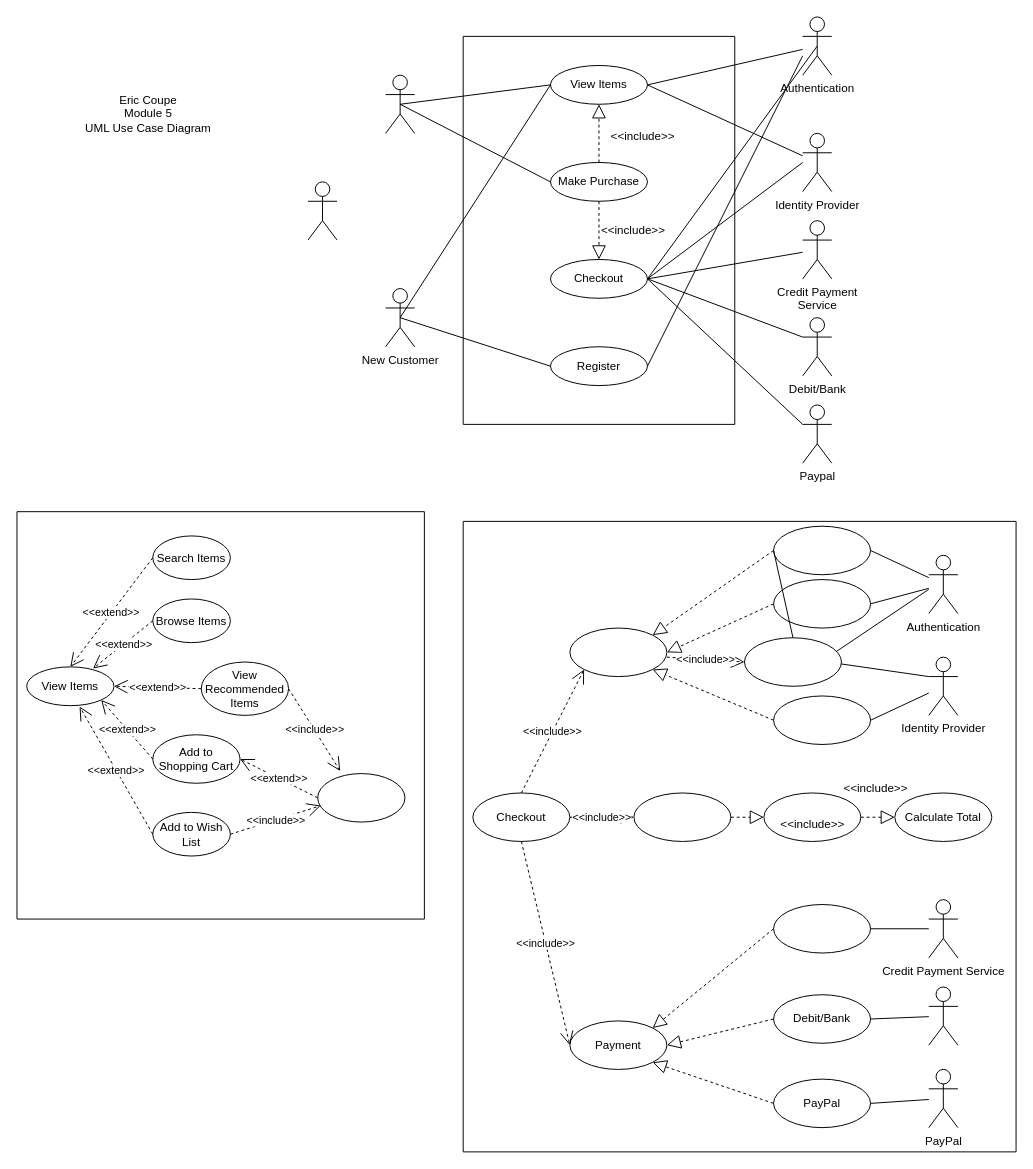
Some shapes in this 1033 by 1169 pixel diagram are drawn without their labels. Here are the shapes that lost their labels. From the top down, the box of each, then its label:
(385, 74, 415, 133): Registered Customer
(307, 181, 337, 240): Web Customer
(773, 525, 871, 575): Member Log-In
(773, 579, 871, 628): Remember Me
(569, 627, 667, 677): Authenticate Customer
(744, 637, 841, 686): Register New User
(773, 695, 871, 744): Single Sign-On
(317, 773, 405, 822): Customer Authentication
(633, 792, 731, 841): View/Update Cart
(763, 792, 861, 841): Calculate Taxes and Shipping
(773, 904, 871, 953): Credit
(928, 986, 958, 1045): Debit/Bank Service
